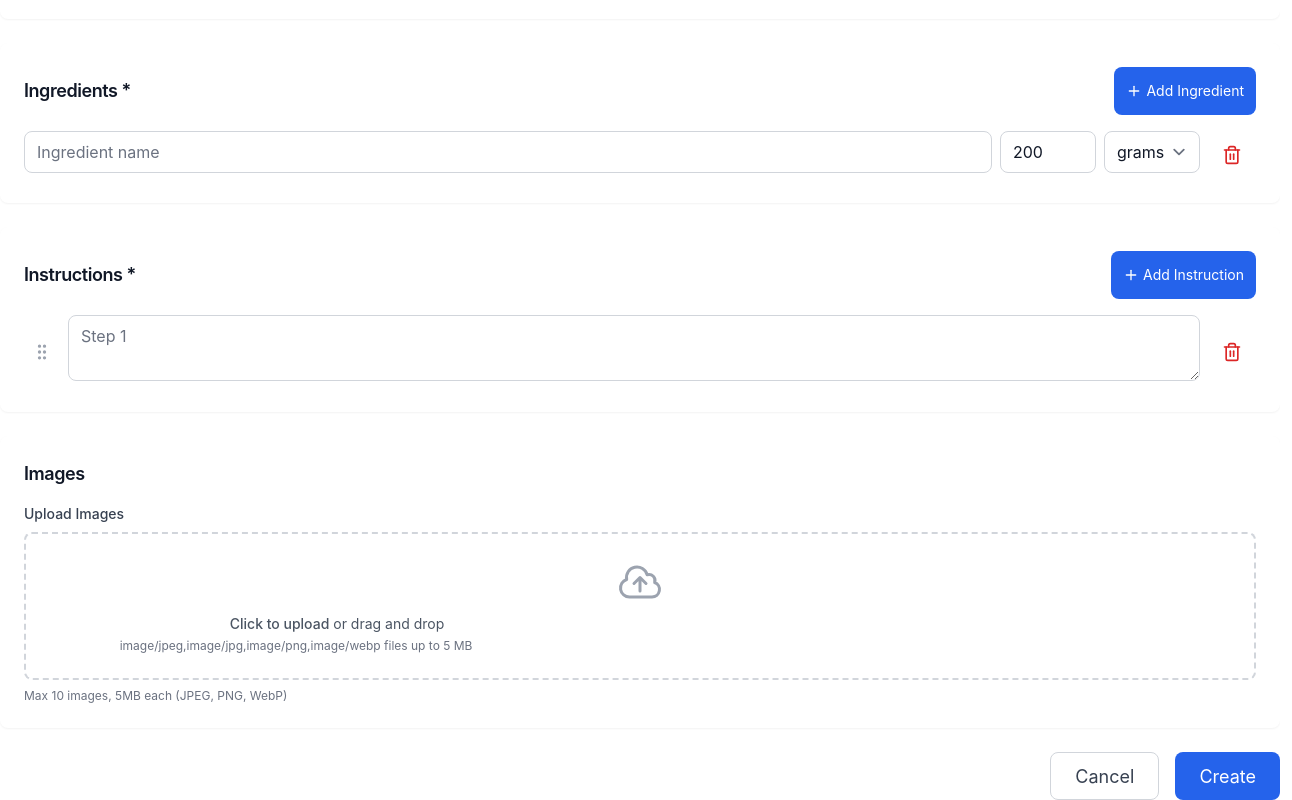
Test: RecipeForm › Form Validation › validates required fields
(page scrolled)
// Try to submit empty form
Click the button "Create". click: click(1228, 776)
box: x1=1175 y1=752 x2=1280 y2=799
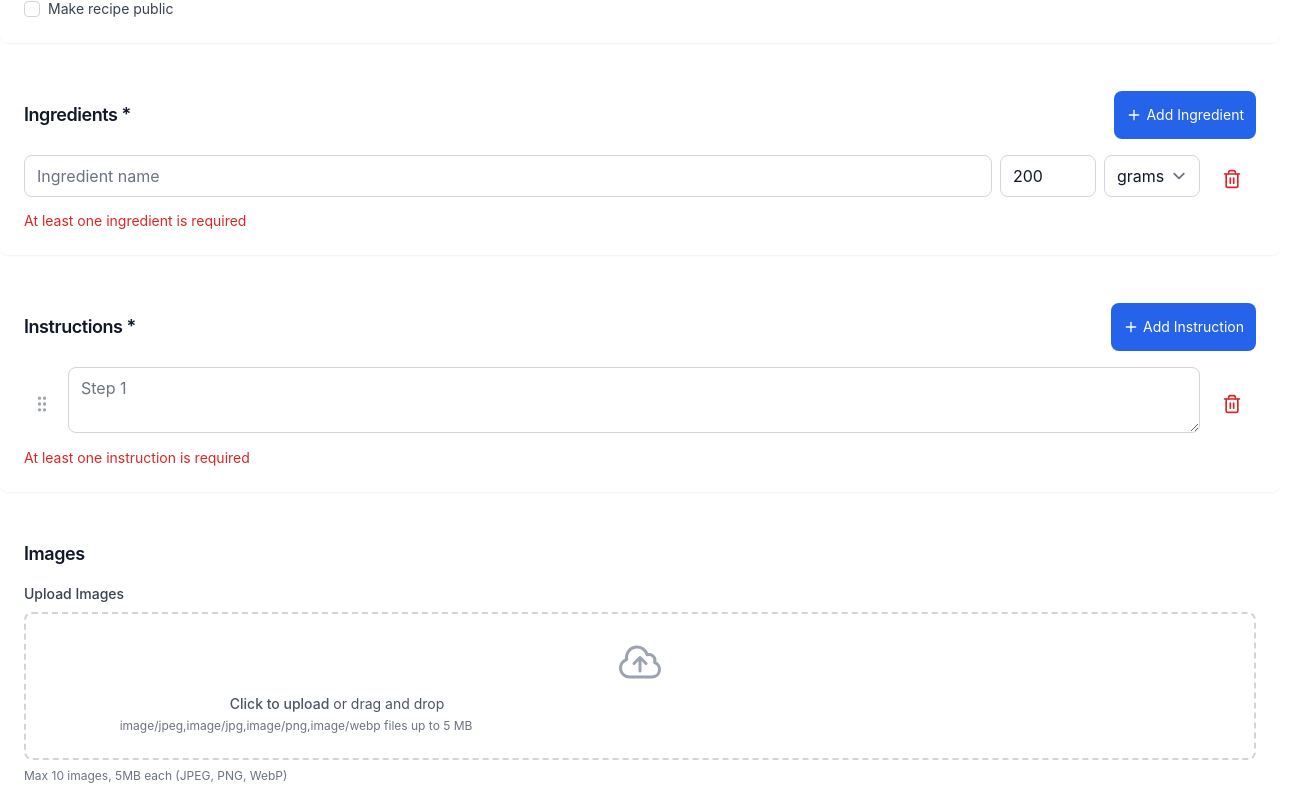
expect the text "At least one ingredient is required" is shown: met, box x1=24 y1=212 x2=246 y2=229
expect the text "At least one instruction is required" is shown: met, box x1=24 y1=449 x2=250 y2=466
